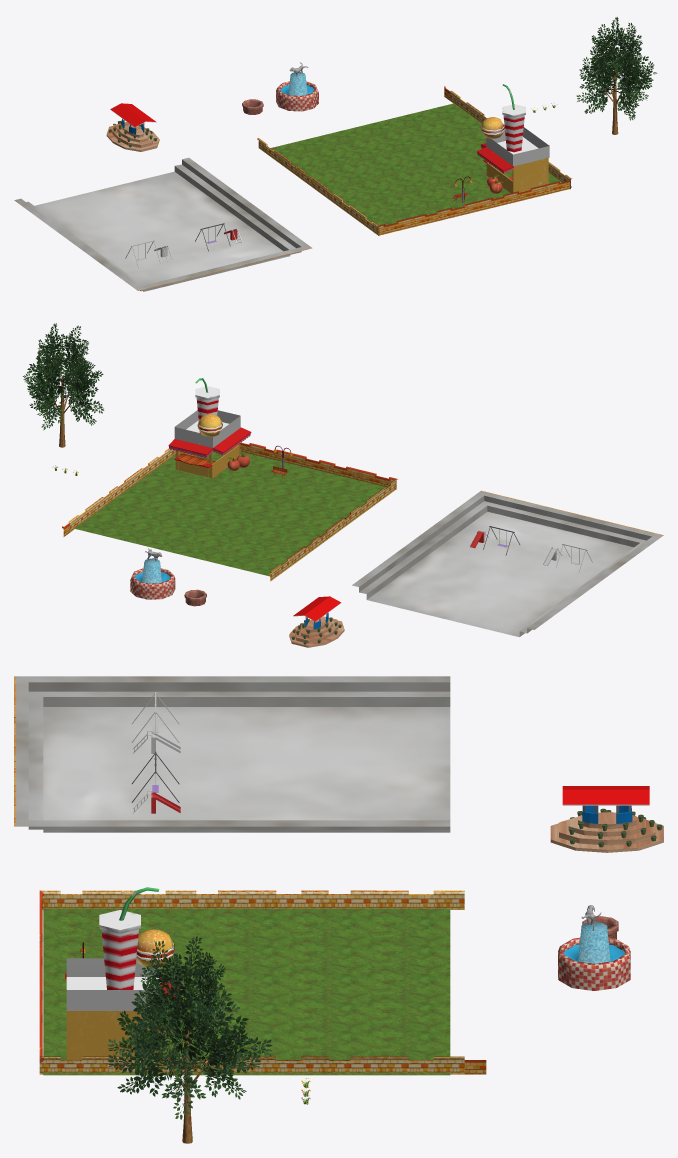
The model's file is extra item.fbx.
3 renders of one model, top to bottom at view 1: azimuth 30°, elevation 25°; view 2: azimuth 150°, elevation 25°; view 3: azimuth 270°, elevation 25°, orthographic. The views are drawn at different scales.
Visible parts, largest first — view 1: pPlane325, pPlane324, polySurface9132, polySurface9135, polySurface8963, polySurface8976, polySurface8964, polySurface9181, polySurface8965, polySurface9176; view 2: pPlane325, pPlane324, polySurface9132, polySurface9135, polySurface8963, polySurface8976, polySurface8964, polySurface8965, polySurface9181, polySurface9176; view 3: pPlane325, pPlane324, polySurface9132, polySurface9135, polySurface8964, polySurface8965, polySurface8976, polySurface9181, polySurface9176, polySurface7766.
Boxes of the visible parts, left/top/right/bottom form: pPlane325: left=14, top=157, right=312, bottom=291; pPlane324: left=270, top=103, right=571, bottom=225; polySurface9132: left=576, top=17, right=657, bottom=134; polySurface9135: left=477, top=84, right=549, bottom=193; polySurface8963: left=377, top=179, right=570, bottom=235; polySurface8976: left=276, top=62, right=318, bottom=111; polySurface8964: left=257, top=138, right=379, bottom=235; polySurface9181: left=106, top=122, right=159, bottom=151; polySurface8965: left=444, top=86, right=571, bottom=189; polySurface9176: left=110, top=103, right=156, bottom=127; pPlane325: left=352, top=490, right=663, bottom=637; pPlane324: left=74, top=451, right=386, bottom=576; polySurface9132: left=23, top=323, right=104, bottom=447; polySurface9135: left=168, top=378, right=251, bottom=478; polySurface8963: left=240, top=442, right=398, bottom=489; polySurface8976: left=130, top=548, right=175, bottom=599; polySurface8964: left=270, top=478, right=397, bottom=581; polySurface8965: left=62, top=448, right=175, bottom=536; polySurface9181: left=289, top=616, right=344, bottom=647; polySurface9176: left=293, top=596, right=341, bottom=621; pPlane325: left=14, top=676, right=450, bottom=832; pPlane324: left=43, top=908, right=450, bottom=1075; polySurface9132: left=107, top=936, right=272, bottom=1143; polySurface9135: left=65, top=887, right=180, bottom=1059; polySurface8964: left=39, top=890, right=464, bottom=909; polySurface8965: left=39, top=1056, right=486, bottom=1074; polySurface8976: left=558, top=905, right=630, bottom=990; polySurface9181: left=550, top=812, right=663, bottom=852; polySurface9176: left=562, top=786, right=649, bottom=805; polySurface7766: left=131, top=692, right=180, bottom=753.
Bounding box in the file's own units: 1280 × 253 × 722.
